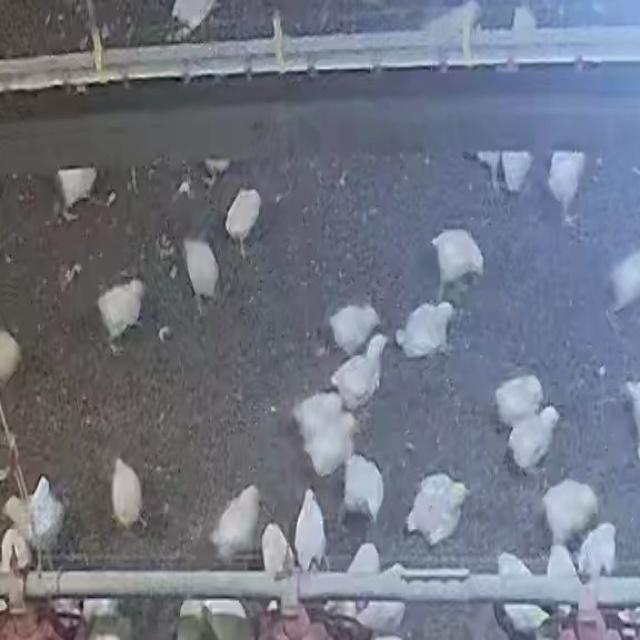chicken: (293, 392, 354, 480), (404, 472, 468, 547), (332, 335, 390, 411), (429, 228, 486, 300), (210, 482, 262, 560), (541, 478, 598, 548), (92, 276, 148, 340), (506, 404, 558, 472), (394, 302, 453, 360), (105, 458, 149, 530), (341, 452, 385, 523), (327, 302, 382, 356), (297, 490, 331, 574), (546, 151, 586, 222), (493, 372, 544, 426), (224, 186, 264, 244), (180, 239, 218, 300), (578, 522, 616, 579), (608, 248, 640, 313), (261, 521, 291, 581)
